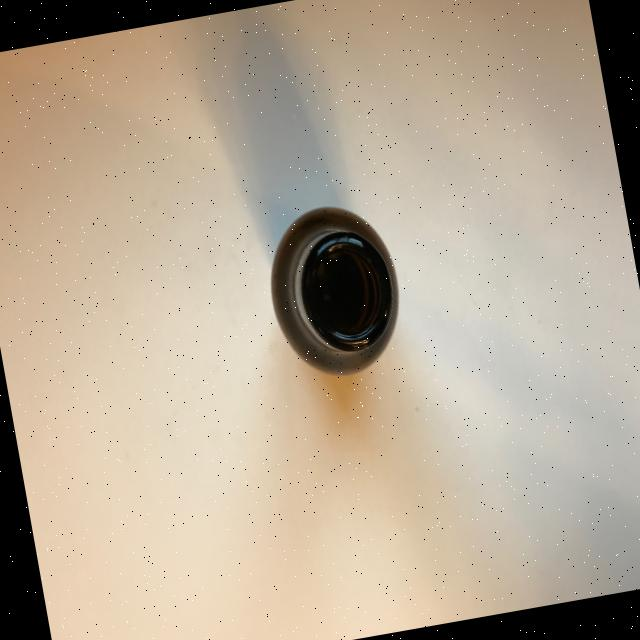glass: (256, 194, 412, 386)
